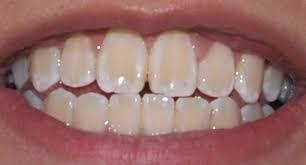Calculus: (98, 26, 148, 90), (149, 34, 198, 94)
